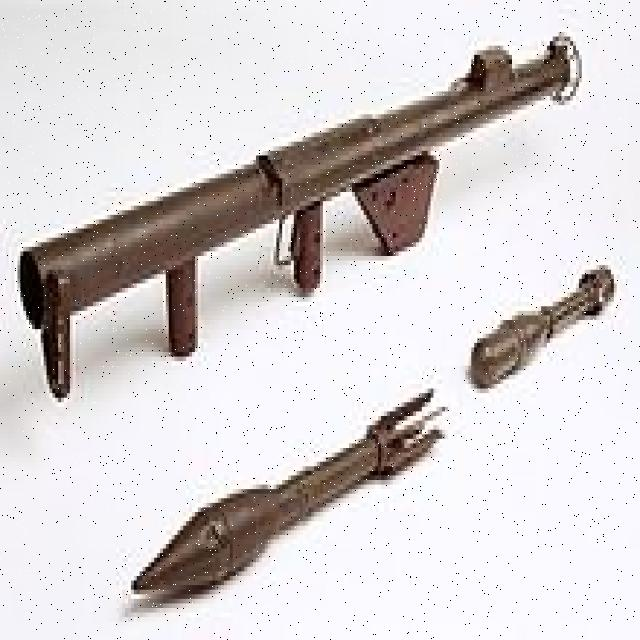bazooka: (9, 28, 588, 405)
